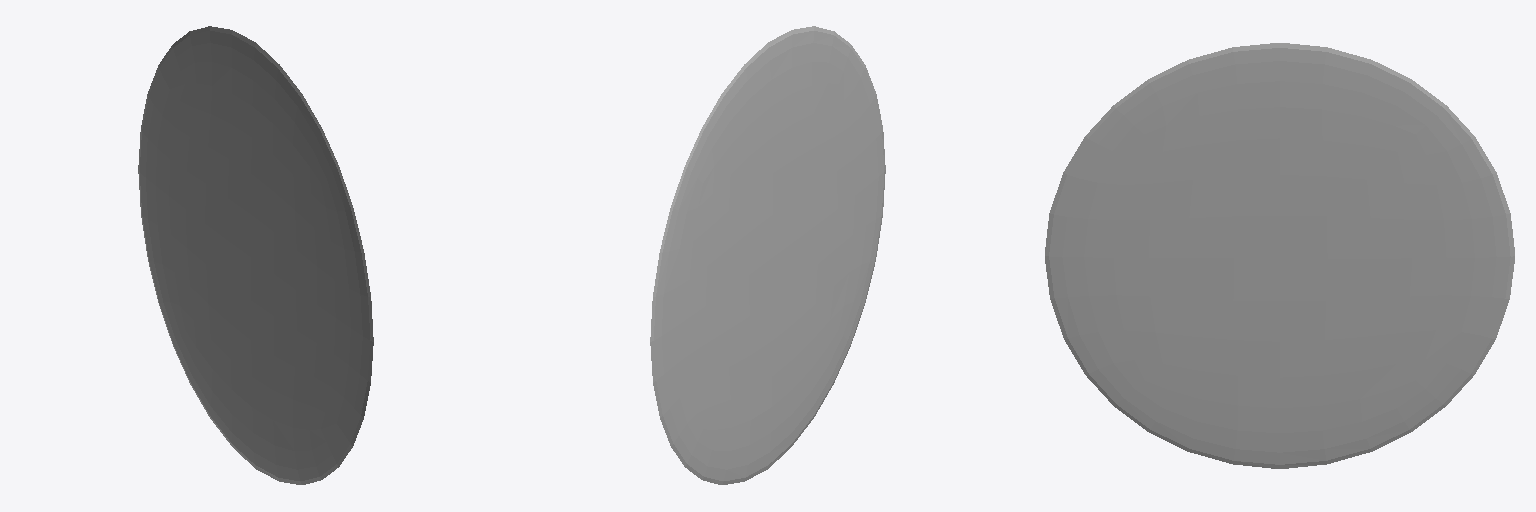
Rendered from OilSlick.obj.
The picture shows the model from 3 angles: view 1: azimuth 30°, elevation 25°; view 2: azimuth 150°, elevation 25°; view 3: azimuth 270°, elevation 25°; orthographic projection.
Size of the model in its own units: 0.1 by 4 by 4.